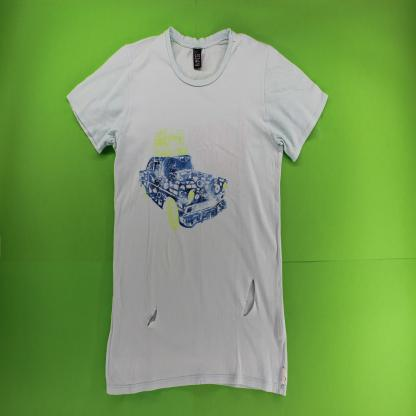hole: (241, 275, 257, 320), (145, 306, 158, 330)
